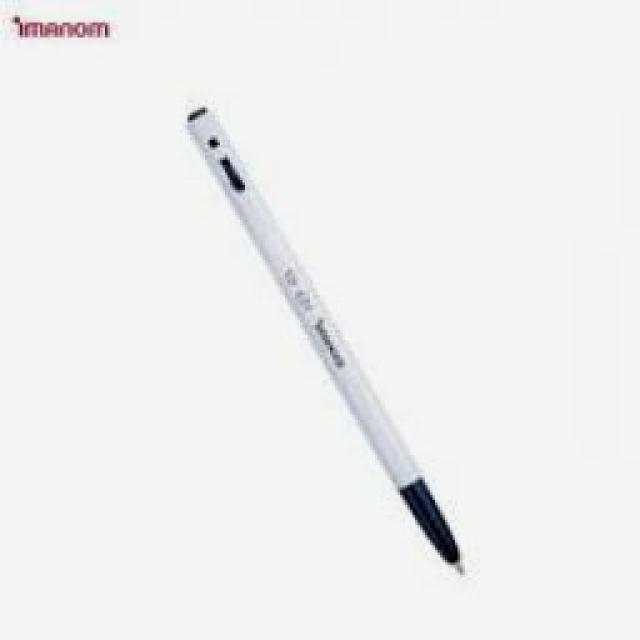pen: (182, 103, 472, 583)
